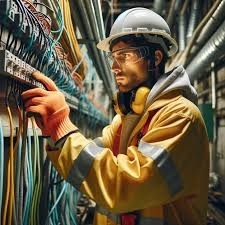safety_goggles: (101, 44, 171, 73)
